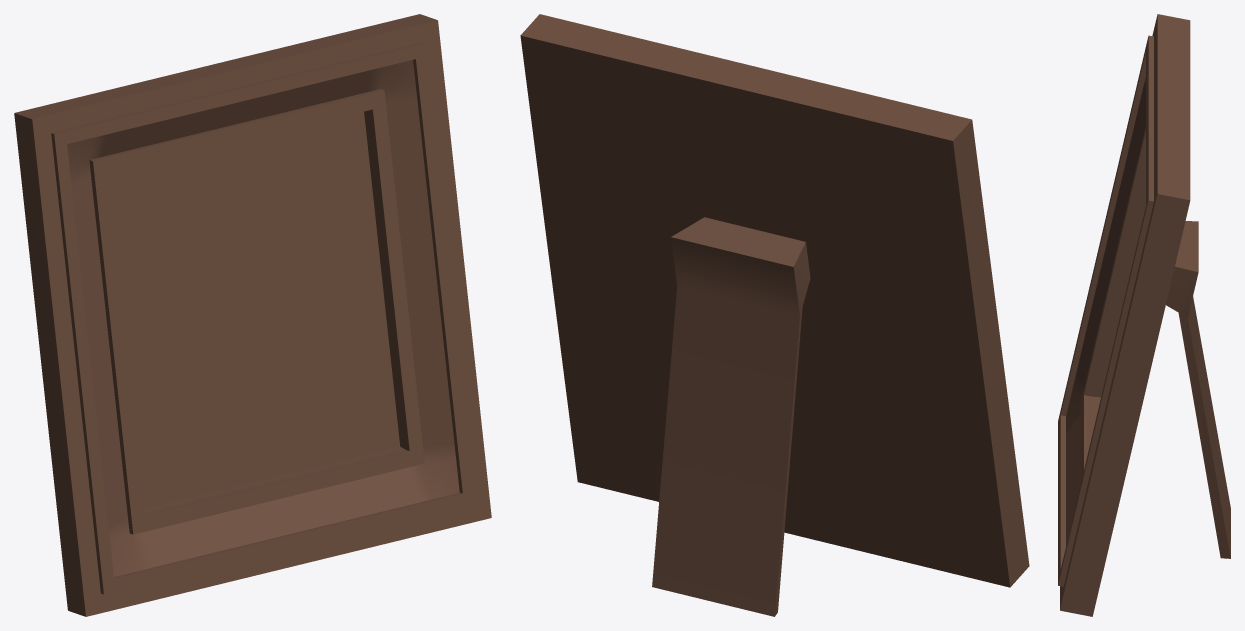
The model's file is OBJ_PhotoFrame_Square_v01 (1).fbx.
The picture shows the model from 3 angles, left to right: view 1: azimuth 30°, elevation 25°; view 2: azimuth 150°, elevation 25°; view 3: azimuth 270°, elevation 25°; orthographic projection. The views are drawn at different scales.
Visible parts, largest first — view 1: OBJ_PhotoFrame_Square_v01; view 2: OBJ_PhotoFrame_Square_v01; view 3: OBJ_PhotoFrame_Square_v01.
Part boxes in pixels (x1=…): OBJ_PhotoFrame_Square_v01: x1=14, y1=14, x2=491, y2=616; OBJ_PhotoFrame_Square_v01: x1=520, y1=14, x2=1029, y2=616; OBJ_PhotoFrame_Square_v01: x1=1058, y1=14, x2=1230, y2=616.
Bounding box in the file's own units: 19.64 × 21.88 × 7.97.
